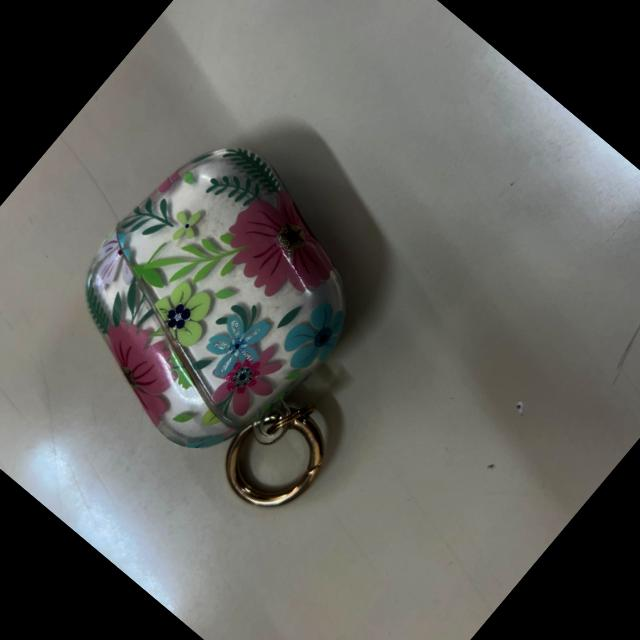inorganic: (31, 116, 448, 528)
